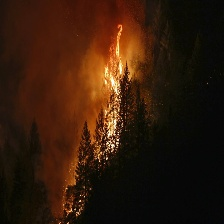fire: (97, 23, 127, 149)
smoke: (4, 2, 100, 180)
